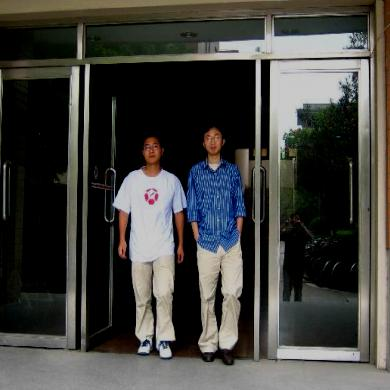ped: (114, 137, 189, 359), (189, 124, 248, 365)
